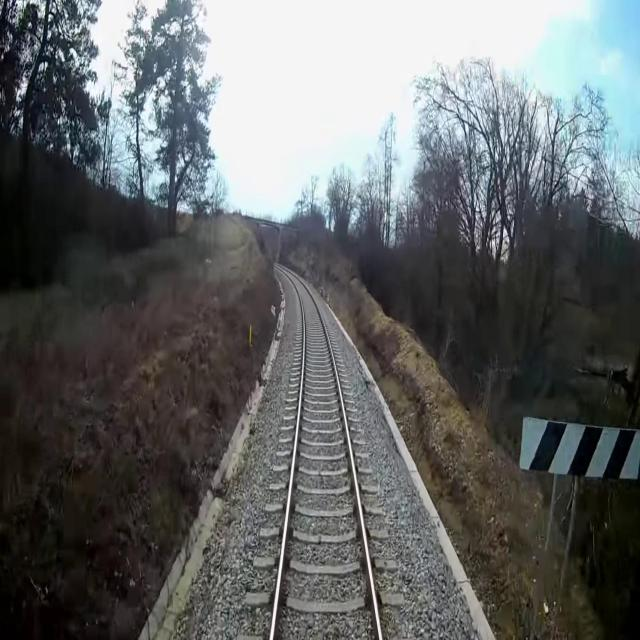rail-track: (274, 269, 378, 639)
